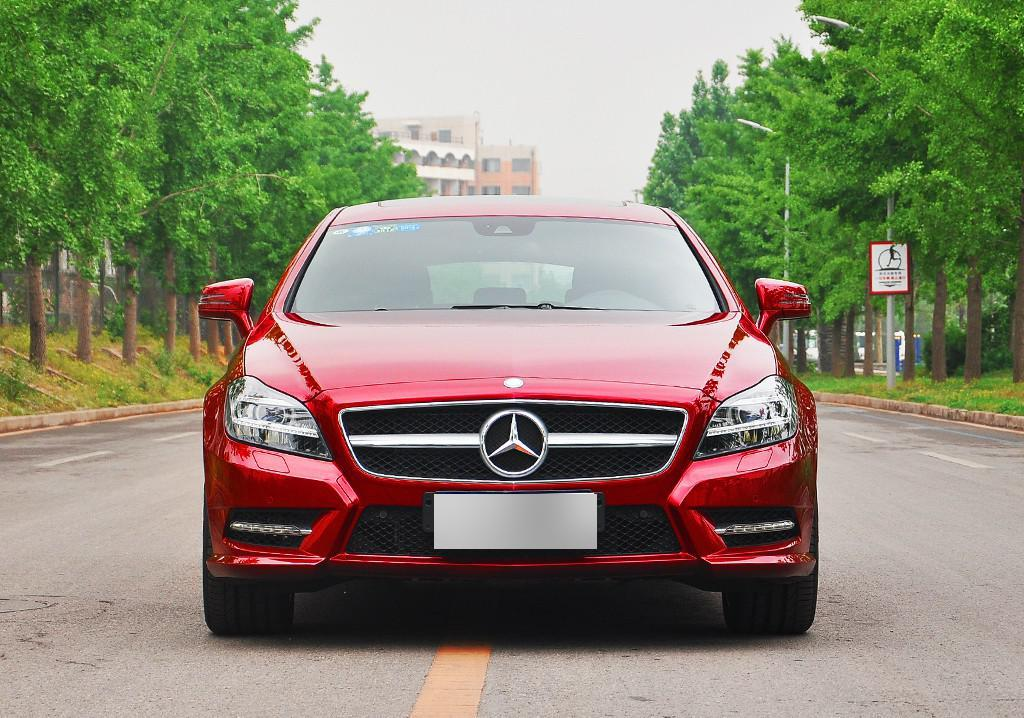Wagon: (200, 194, 818, 635)
